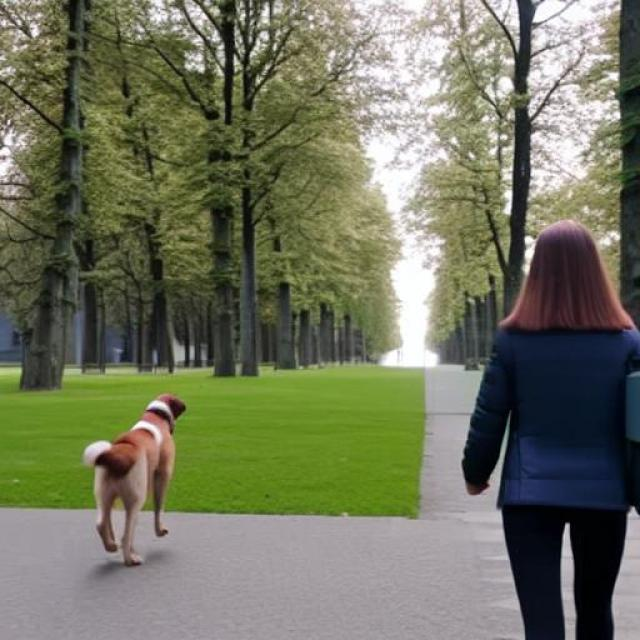Unleashed_Dog: (80, 383, 596, 569)
